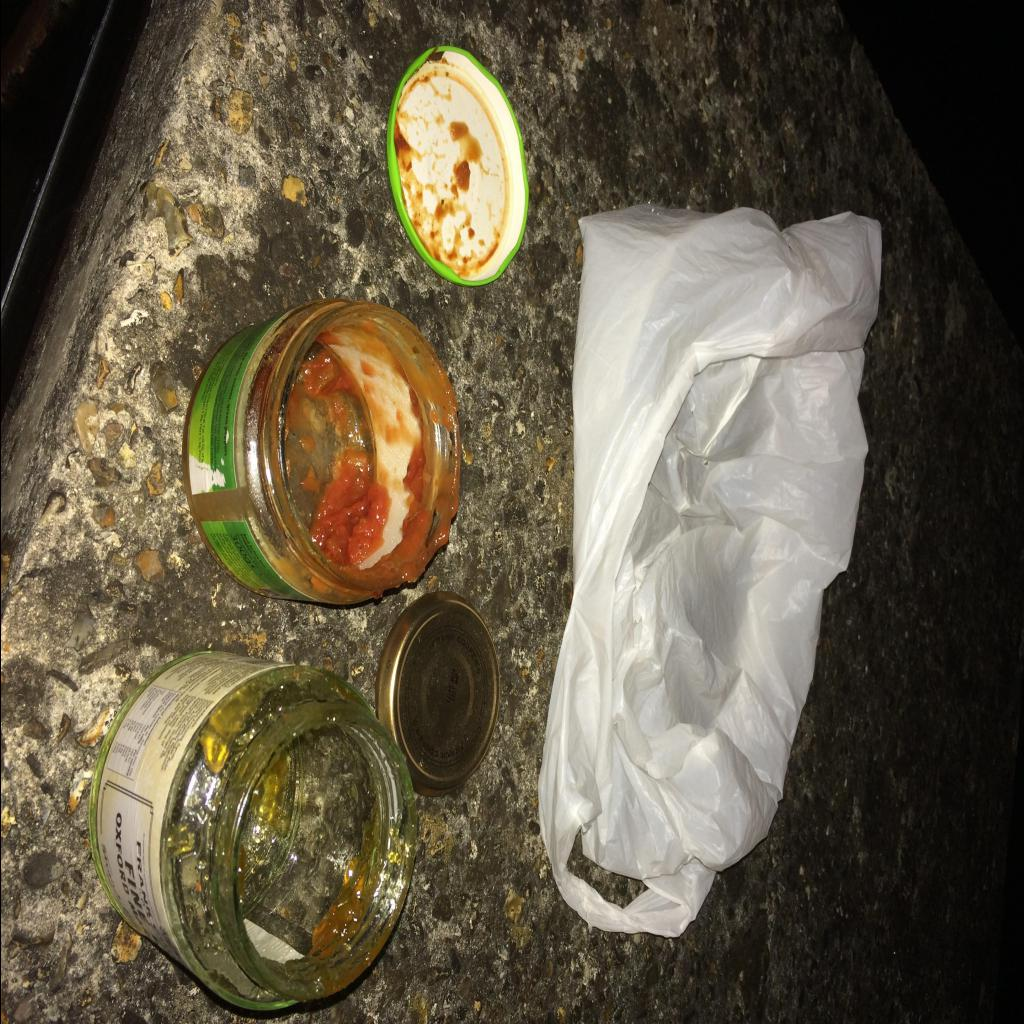Single-use carrier bag: (538, 204, 880, 938)
